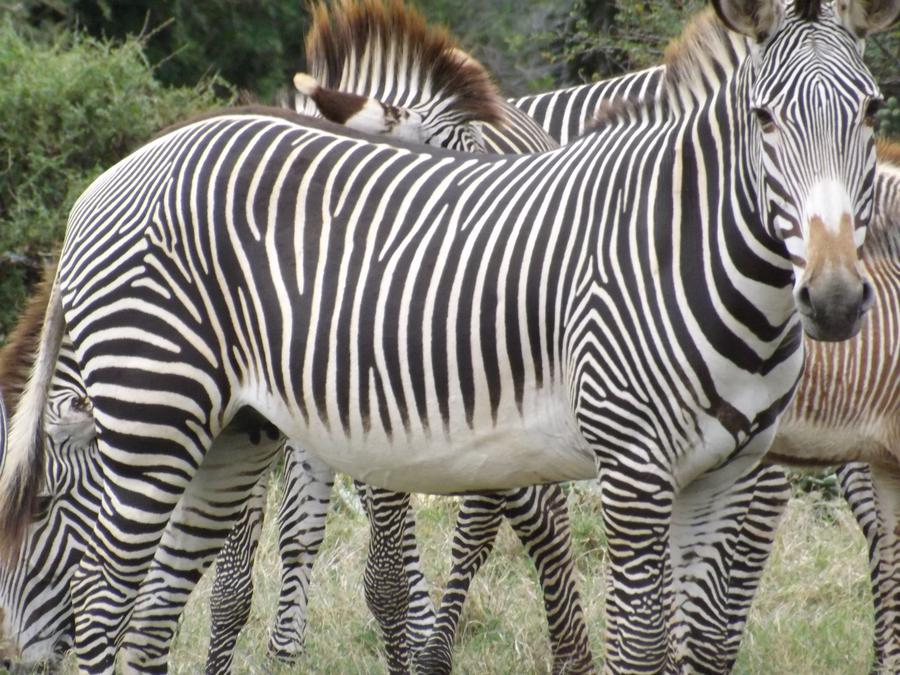zebra_grevys: (76, 92, 696, 476)
